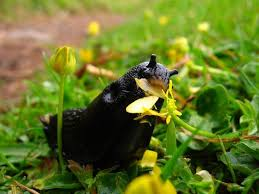slug: (44, 56, 177, 161)
